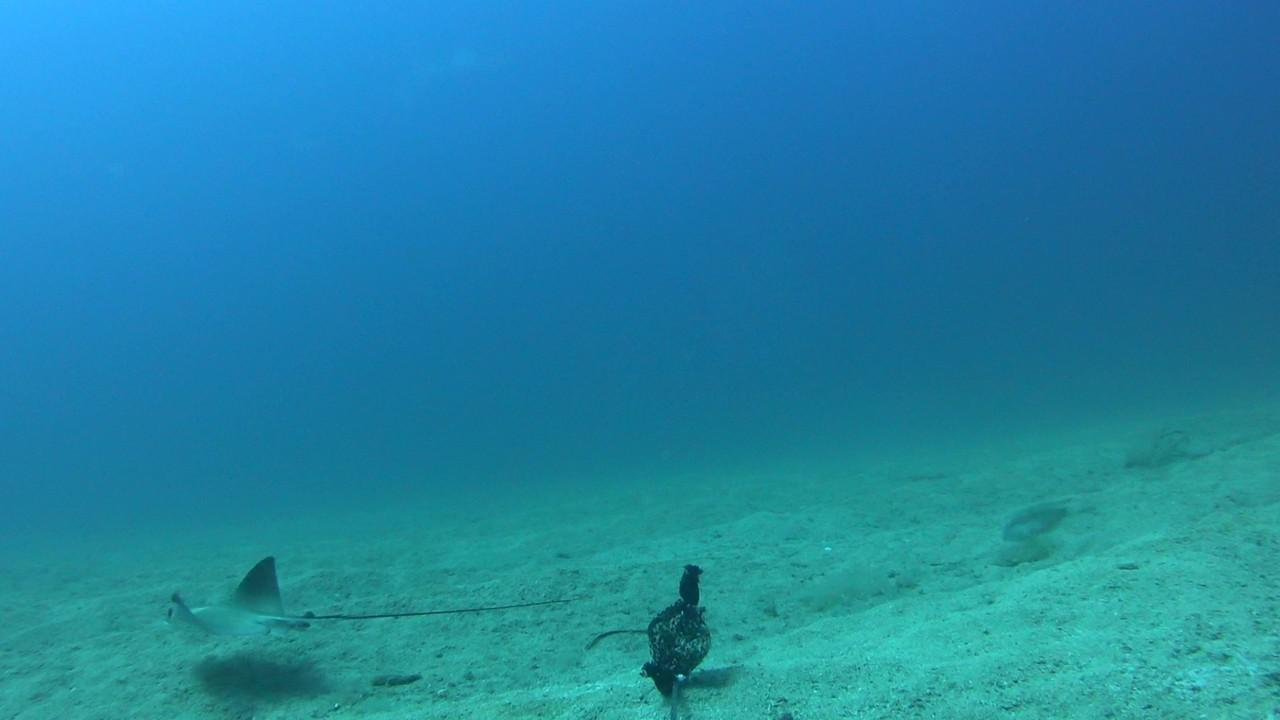myliobatis: (130, 532, 589, 654)
raor: (1008, 499, 1077, 544)
